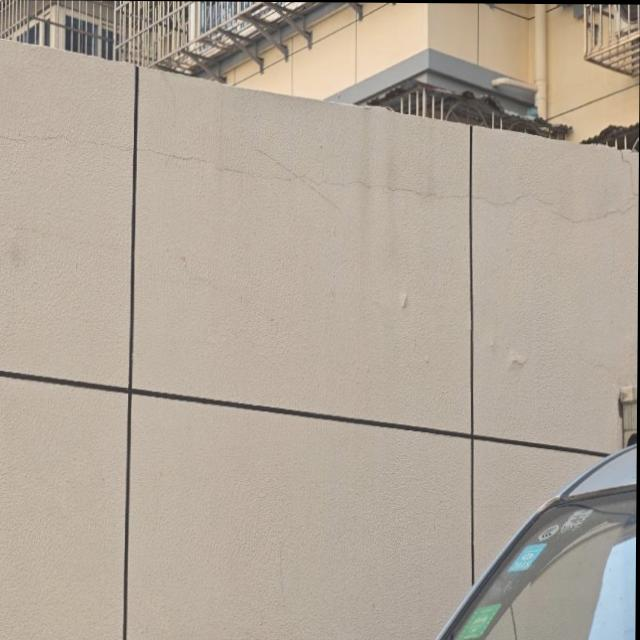crack: (0, 117, 638, 236)
hollowing: (484, 322, 541, 398), (395, 276, 416, 318)
